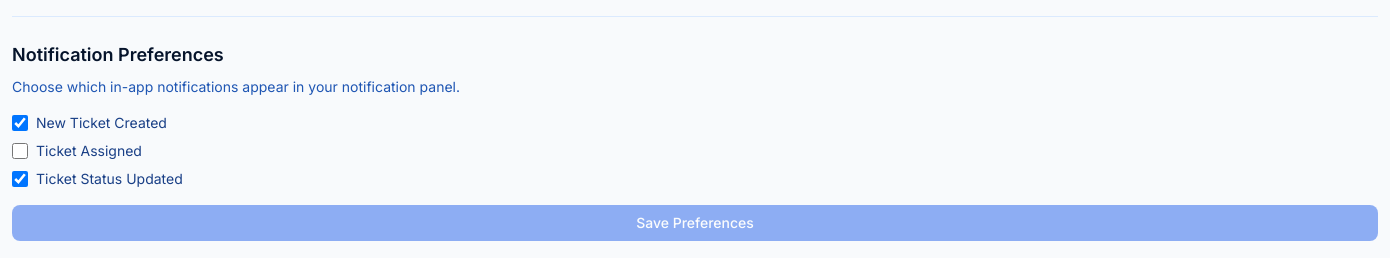
it: NotificationPreferencesSection › disables Save until a change is made
This screenshot has width=1390, height=258.
Expected: the button "Save Preferences" is disabled, top-left (12, 205), bottom-right (1378, 241)
Click the checkbox labelled "Ticket Assigned". click: (20, 151)
box: top-left (12, 143), bottom-right (28, 159)
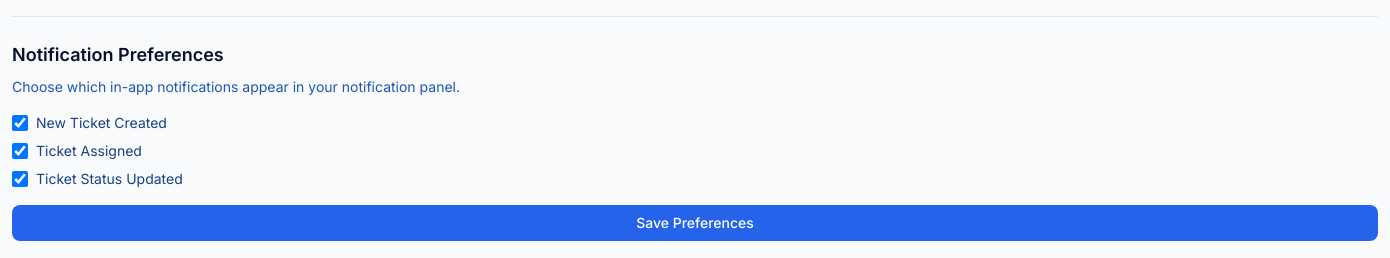
Now the button "Save Preferences" is enabled, box top-left (12, 205), bottom-right (1378, 241)
